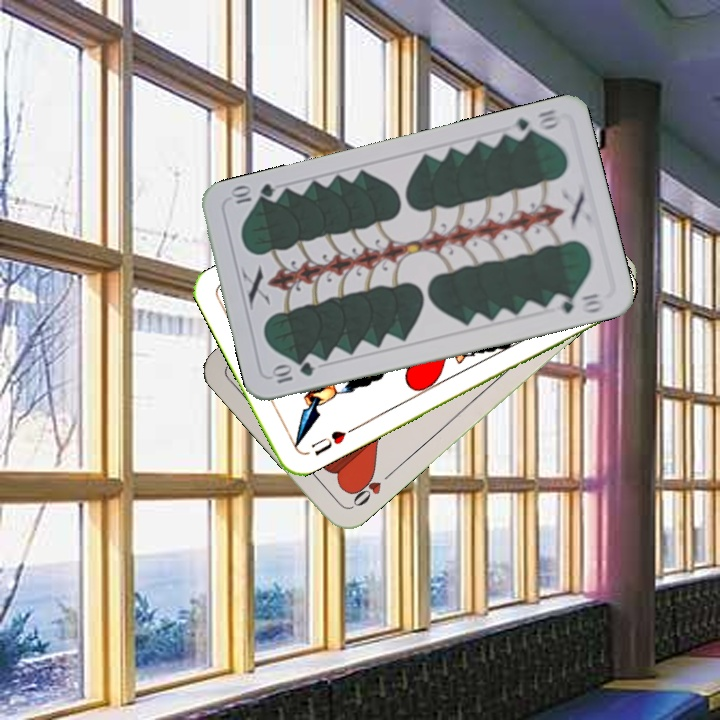G10: (504, 105, 564, 143), (268, 358, 317, 386)
HO: (346, 467, 396, 510)
HU: (307, 424, 356, 458)
